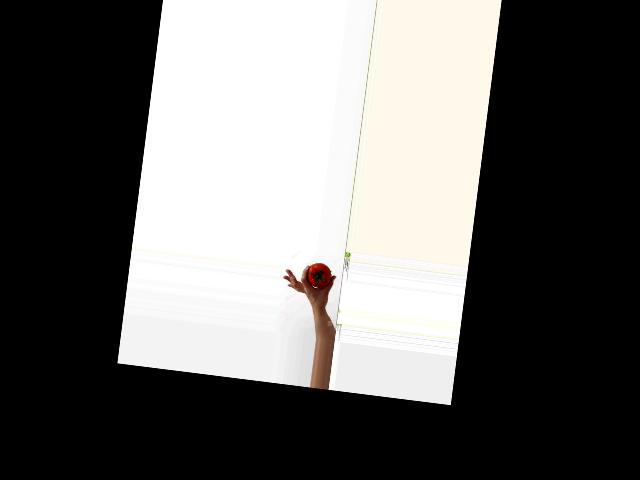tomato: (305, 262, 333, 289)
